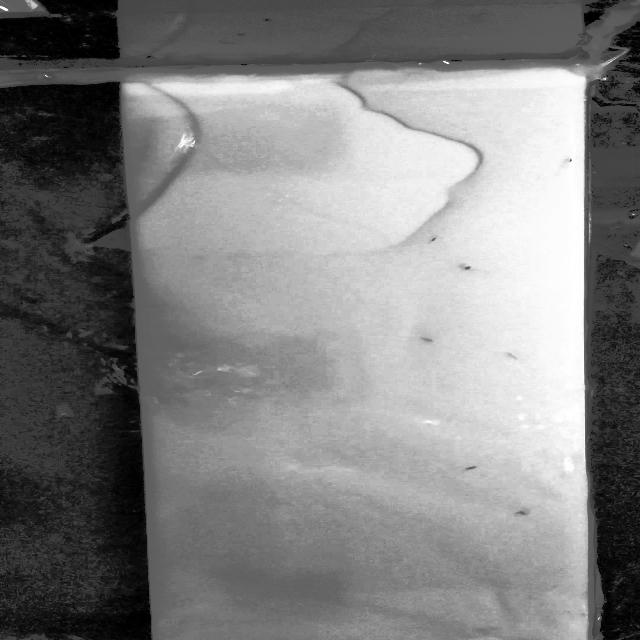shrimp: (502, 349, 526, 363), (410, 334, 437, 346), (516, 506, 538, 517), (461, 463, 482, 473), (459, 263, 481, 271), (425, 235, 447, 242), (564, 154, 573, 170)
